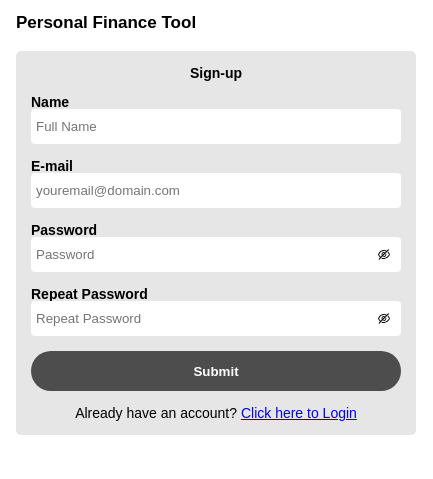
Test case: Register › Register Form › should show an alert for invalid email
Type "Name" into the field with placeholder "Full Name". click: point(216, 126)
box: [31,109,401,144]
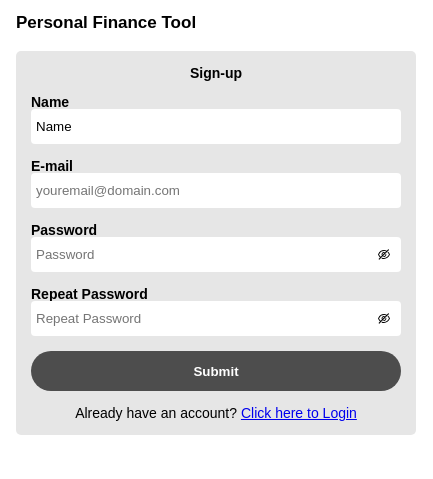
Type "invalid..email@[ 123.123.123.123 ]" into the field with placeholder "youremail@domain.com". click: point(216, 190)
box: [31,173,401,208]
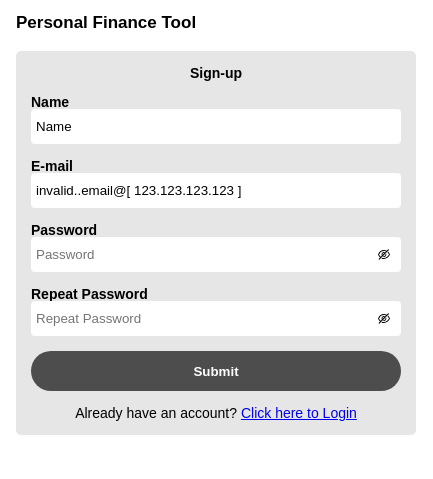
Type "password123" into the password field with placeholder "Password". click: point(216, 254)
box: [31,237,401,272]
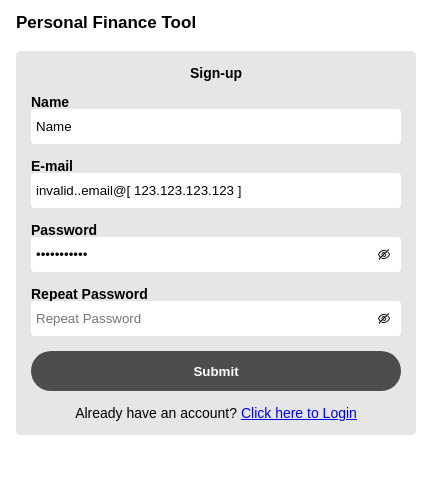
Click the button "Submit". click: point(216, 371)
box: [31,351,401,391]
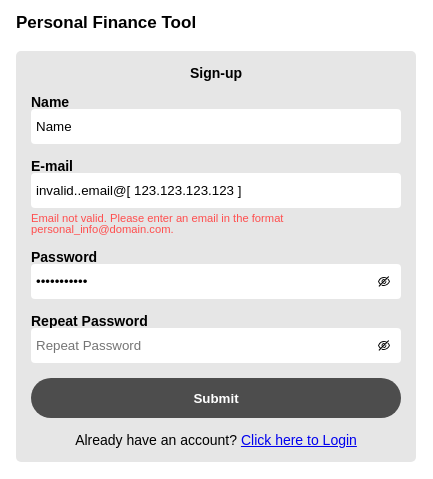
Result: the message reads "Email not valid. Please enter an email in the format personal_info@domain.com." at [31,212,284,235]
